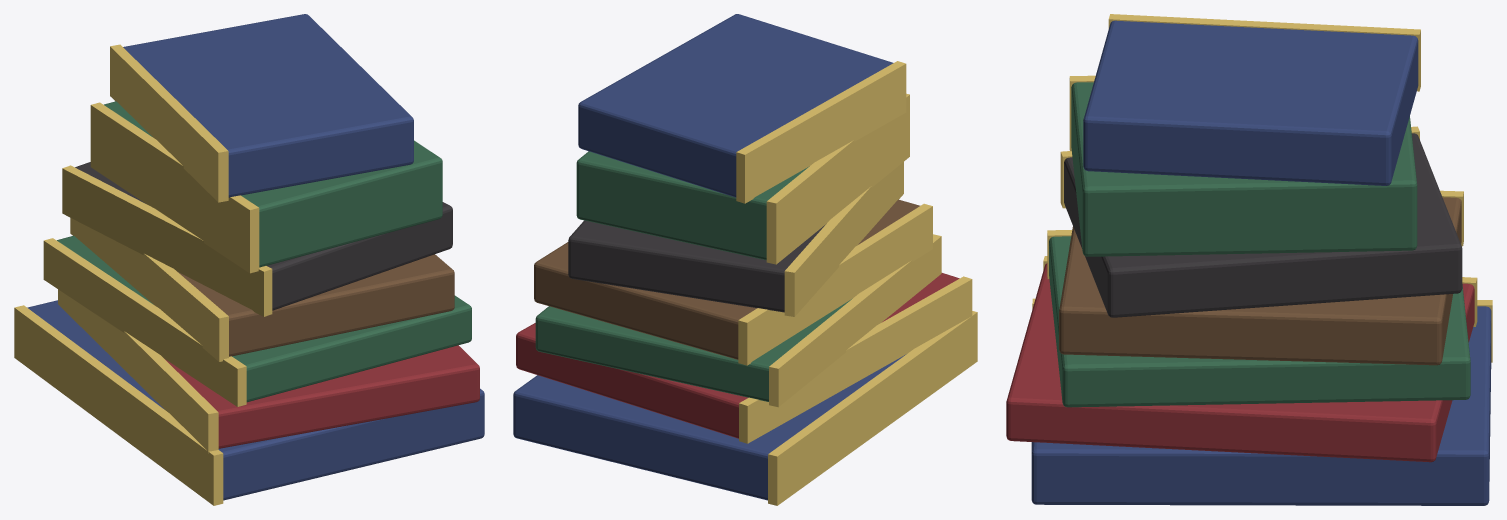
The model's file is book_stack_tome_pile.glb.
3 views of the same model, side by side, from view 1: azimuth 30°, elevation 25°; view 2: azimuth 150°, elevation 25°; view 3: azimuth 270°, elevation 25° (orthographic). The views are drawn at different scales.
Visible parts, largest first — view 1: GD_book_stack_tome_pile__m2, GD_book_stack_tome_pile__m0, GD_book_stack_tome_pile__m4, GD_book_stack_tome_pile__m5, GD_book_stack_tome_pile__m6, GD_book_stack_tome_pile__m3; view 2: GD_book_stack_tome_pile__m2, GD_book_stack_tome_pile__m0, GD_book_stack_tome_pile__m4, GD_book_stack_tome_pile__m3, GD_book_stack_tome_pile__m6, GD_book_stack_tome_pile__m5; view 3: GD_book_stack_tome_pile__m0, GD_book_stack_tome_pile__m4, GD_book_stack_tome_pile__m5, GD_book_stack_tome_pile__m6, GD_book_stack_tome_pile__m3, GD_book_stack_tome_pile__m2.
Part boxes in pixels (x1=…): GD_book_stack_tome_pile__m2: x1=14, y1=44, x2=272, y2=505; GD_book_stack_tome_pile__m0: x1=27, y1=14, x2=484, y2=500; GD_book_stack_tome_pile__m4: x1=57, y1=101, x2=471, y2=402; GD_book_stack_tome_pile__m5: x1=165, y1=345, x2=479, y2=448; GD_book_stack_tome_pile__m6: x1=177, y1=254, x2=454, y2=356; GD_book_stack_tome_pile__m3: x1=75, y1=162, x2=452, y2=310; GD_book_stack_tome_pile__m2: x1=736, y1=61, x2=977, y2=505; GD_book_stack_tome_pile__m0: x1=513, y1=14, x2=906, y2=500; GD_book_stack_tome_pile__m4: x1=535, y1=151, x2=852, y2=401; GD_book_stack_tome_pile__m3: x1=568, y1=220, x2=825, y2=312; GD_book_stack_tome_pile__m6: x1=534, y1=199, x2=920, y2=359; GD_book_stack_tome_pile__m5: x1=516, y1=273, x2=959, y2=438; GD_book_stack_tome_pile__m0: x1=1031, y1=20, x2=1491, y2=505; GD_book_stack_tome_pile__m4: x1=1049, y1=82, x2=1470, y2=407; GD_book_stack_tome_pile__m5: x1=1006, y1=263, x2=1474, y2=462; GD_book_stack_tome_pile__m6: x1=1059, y1=197, x2=1461, y2=365; GD_book_stack_tome_pile__m3: x1=1064, y1=133, x2=1462, y2=317; GD_book_stack_tome_pile__m2: x1=1032, y1=14, x2=1492, y2=362.
Bounding box in the file's own units: 0.3086 × 0.3192 × 0.3869.
